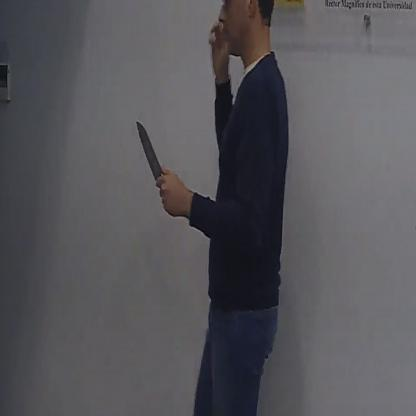knife: (134, 116, 174, 215)
